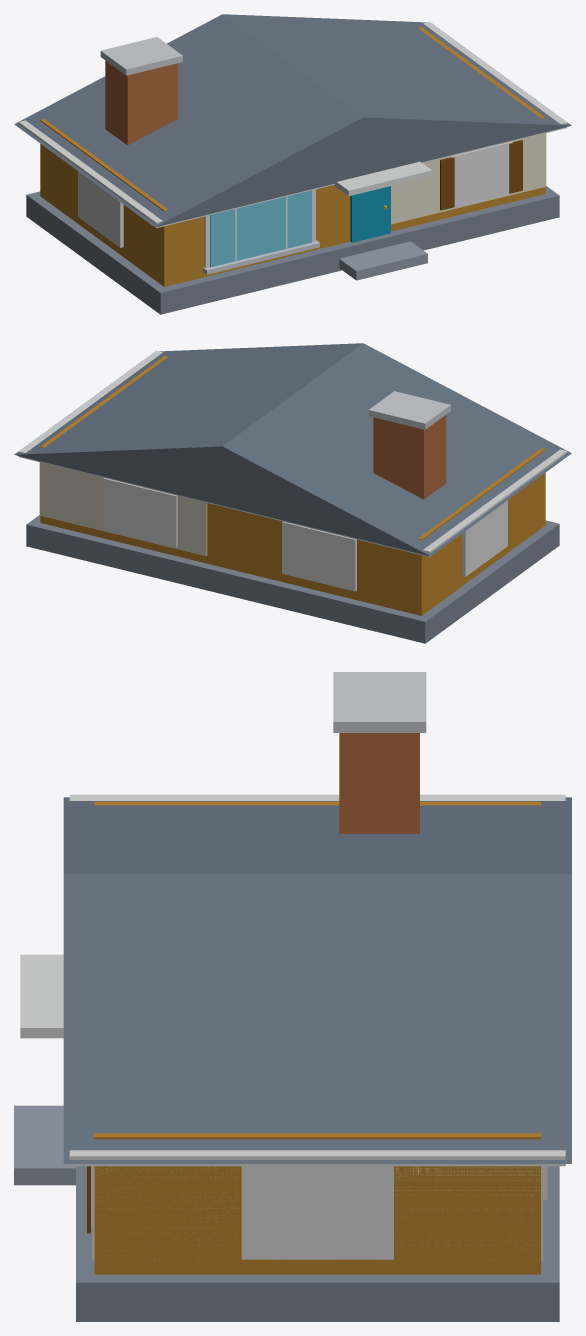
File: ranch-house.glb
3 views of the same model, one above another, from view 1: azimuth 30°, elevation 25°; view 2: azimuth 150°, elevation 25°; view 3: azimuth 270°, elevation 25° (orthographic). The views are drawn at different scales.
Visible parts, largest first — view 1: Root; view 2: Root; view 3: Root.
Boxes of the visible parts, x1,y1,x2,y2 form: Root: (14, 14, 571, 314); Root: (14, 343, 571, 643); Root: (14, 672, 571, 1321).
Size of the model in its own units: 14 by 5.9 by 9.
